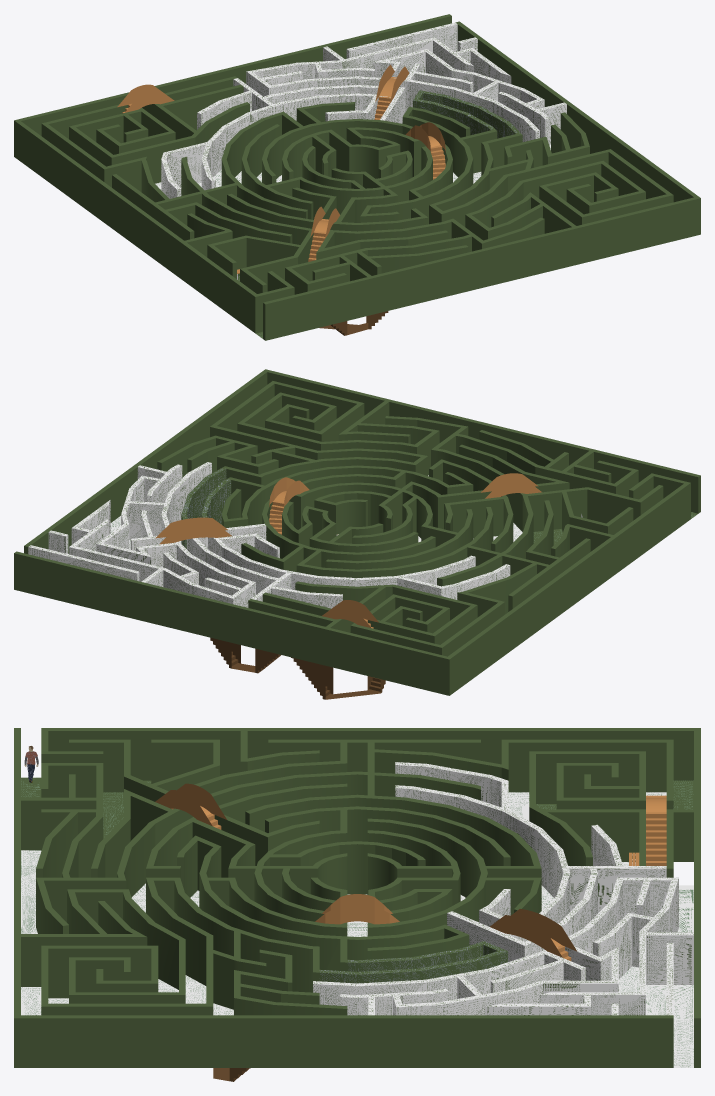
The picture shows the model from 3 angles, top to bottom: view 1: azimuth 30°, elevation 25°; view 2: azimuth 150°, elevation 25°; view 3: azimuth 270°, elevation 25°; orthographic projection. The views are drawn at different scales.
Parts seen in each view (by area): view 1: SketchUp (×11), Component_2 (×2); view 2: SketchUp (×11), Component_2 (×3), Component_1 (×2); view 3: SketchUp (×15), Component_2 (×3), Component_3.
Part boxes in pixels (x1,y1,x2,y2): SketchUp (×11): (14,14,700,340); Component_2 (×2): (131,65,405,108); SketchUp (×11): (14,369,700,695); Component_2 (×3): (171,473,526,624); Component_1 (×2): (210,637,333,699); SketchUp (×15): (14,728,700,1067); Component_2 (×3): (170,783,561,950); Component_3: (646,812,666,865).
Bounding box in the file's own units: 1200 × 1200 × 234.
